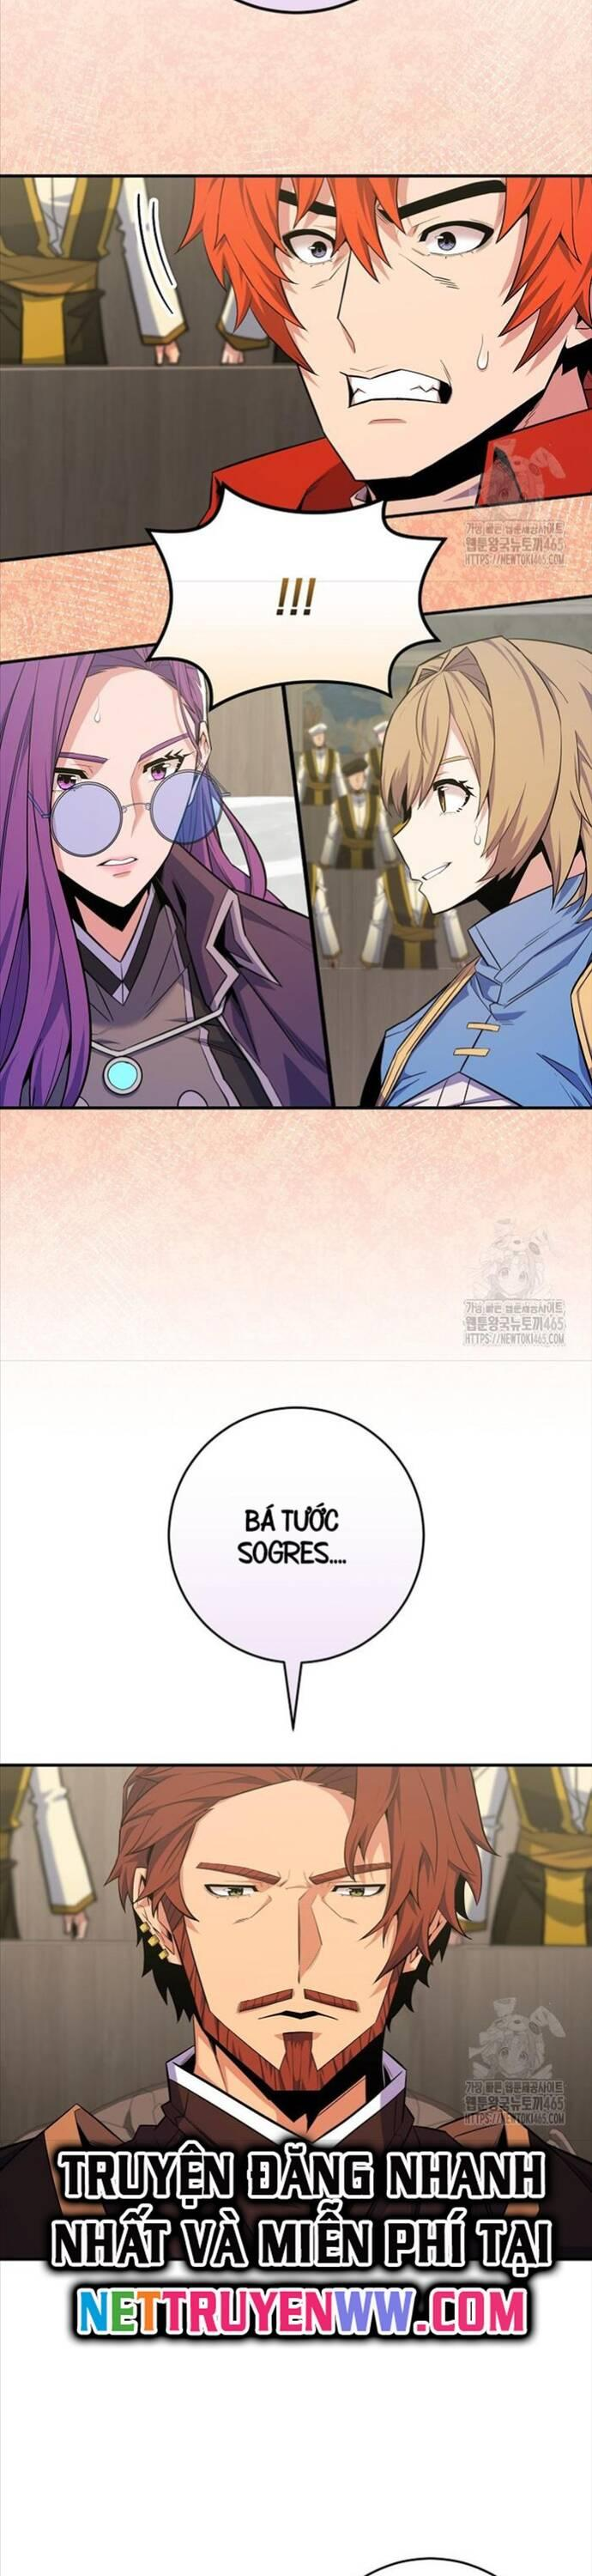quangcao: (51, 2126, 562, 2339)
